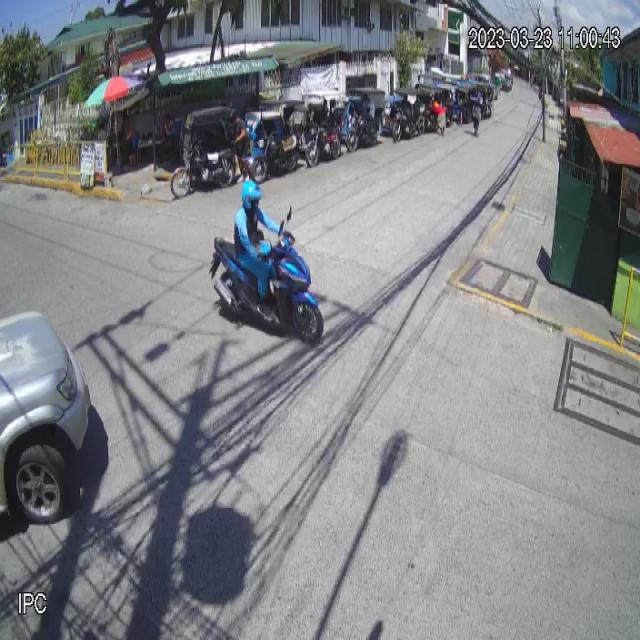Motorcycle: (207, 202, 326, 351)
